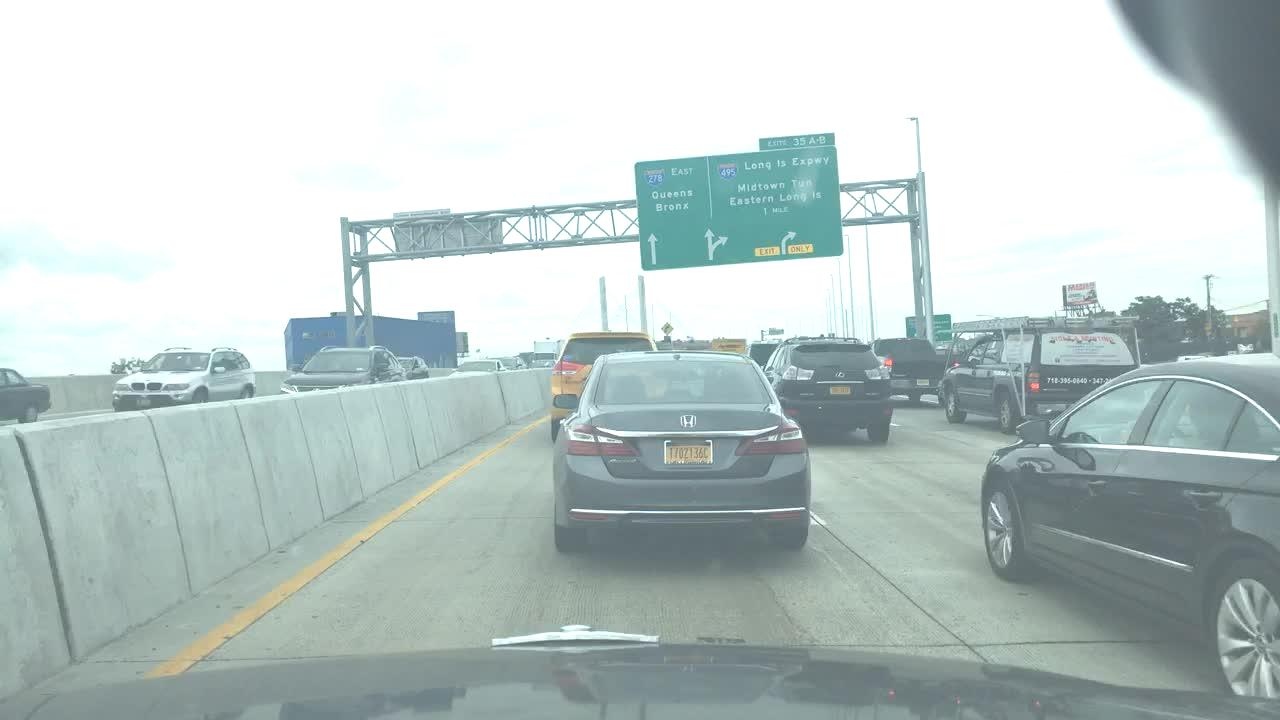Honda: (673, 406, 704, 433)
lexus: (832, 368, 851, 383)
